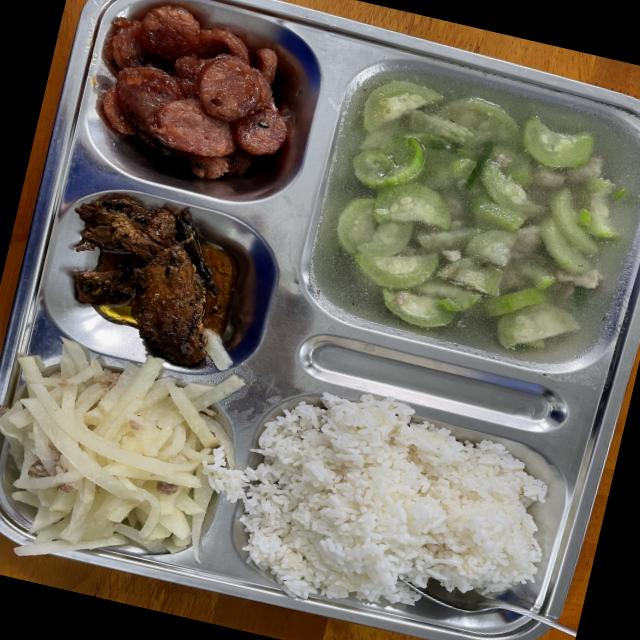ca kho: (75, 199, 218, 365)
canh bau: (314, 67, 640, 362)
com: (206, 393, 545, 604)
rau: (0, 338, 243, 554)
